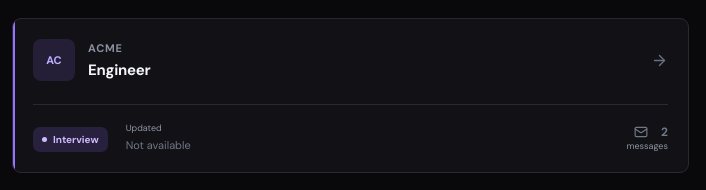
Test case: application results › opens the selected application with an encoded ID
Expected: the text "Acme" is shown, left=88, top=40, right=123, bottom=54
Expected: the text "Engineer" is shown, left=88, top=60, right=150, bottom=80
Click the button "AC Acme Engineer Interview Updated Not available 2 messages".
click(54, 60)  # box left=12, top=18, right=689, bottom=173
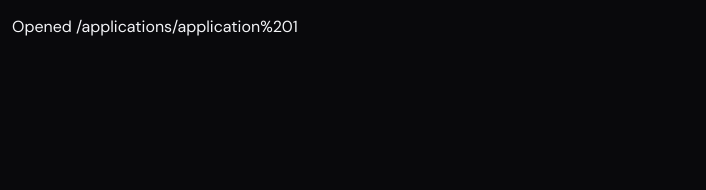
Result: the text "Opened /applications/application%201" is shown at left=12, top=16, right=298, bottom=37
